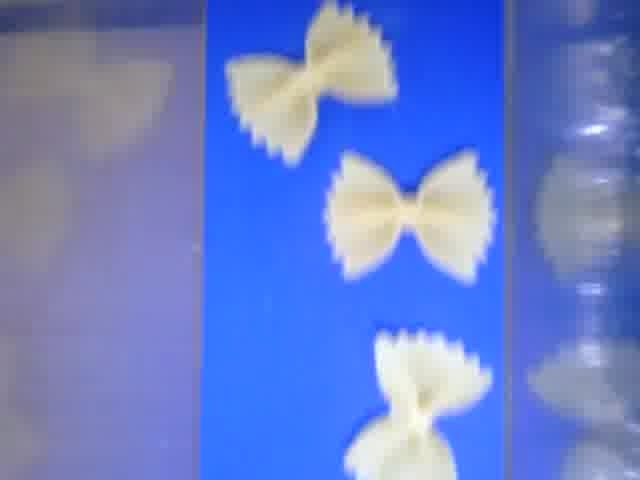farfalle: (224, 4, 400, 166), (323, 150, 496, 285), (342, 330, 492, 480)
